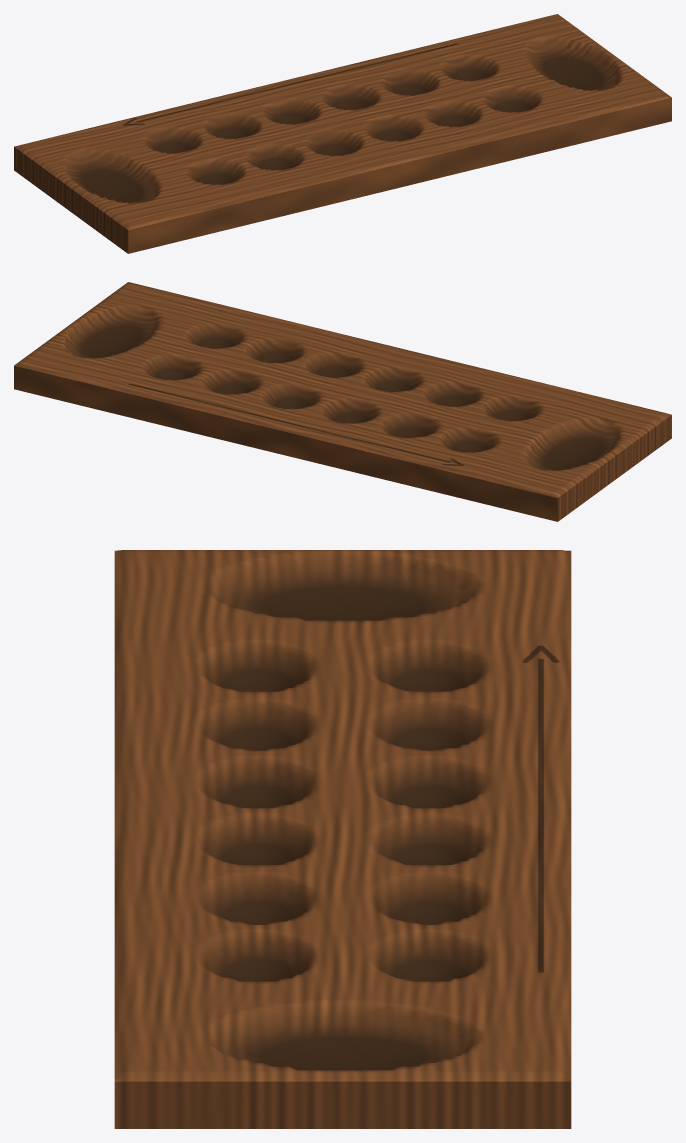
The model's file is board.glb.
The picture shows the model from 3 angles, top to bottom: view 1: azimuth 30°, elevation 25°; view 2: azimuth 150°, elevation 25°; view 3: azimuth 270°, elevation 25°; orthographic projection. The views are drawn at different scales.
Parts seen in each view (by area): view 1: Board; view 2: Board; view 3: Board.
Part boxes in pixels (x1,y1,x2,y2): Board: (14, 14, 671, 253); Board: (14, 282, 671, 521); Board: (114, 550, 571, 1128).
Bounding box in the file's own units: 0.66 × 0.03 × 0.24.
1 material, 1 textured.
